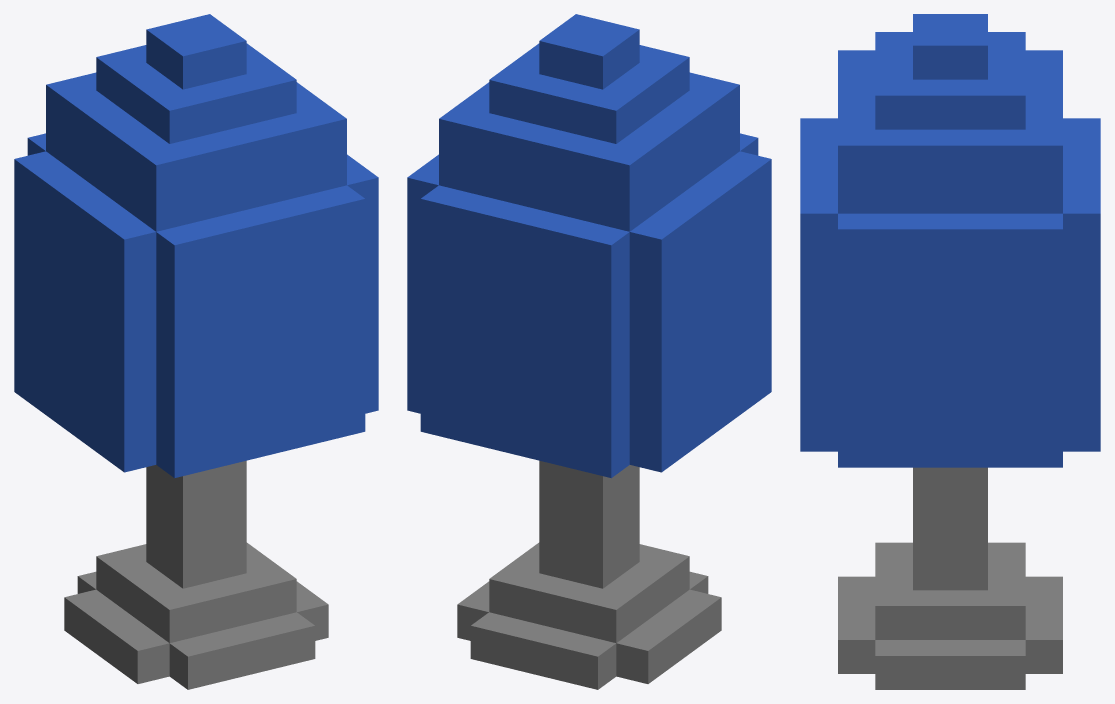
The model's file is lamp blue.obj.
3 views of the same model, side by side, from view 1: azimuth 30°, elevation 25°; view 2: azimuth 150°, elevation 25°; view 3: azimuth 270°, elevation 25° (orthographic). The views are drawn at different scales.
Parts seen in each view (by area): view 1: lamp blue; view 2: lamp blue; view 3: lamp blue.
Part boxes in pixels (box(x1,y1,x2,y2)): lamp blue: box(14, 14, 378, 689); lamp blue: box(407, 14, 771, 689); lamp blue: box(800, 14, 1100, 689).
Size of the model in its own units: 8 by 18 by 8.
